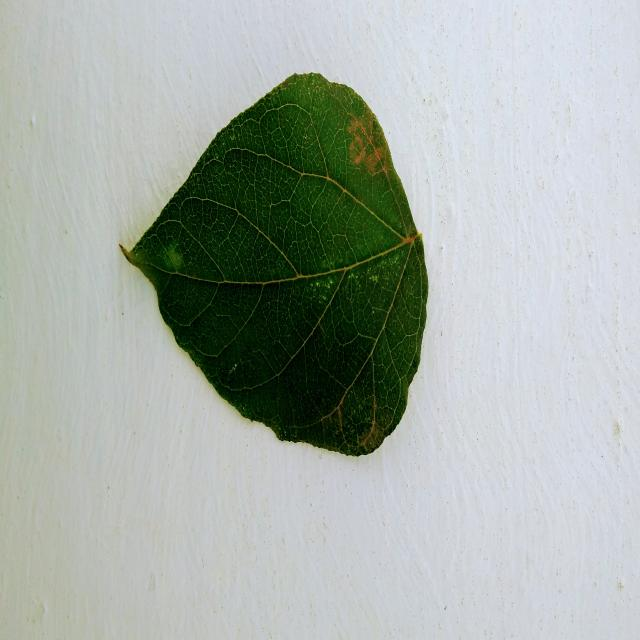Parijatha: (121, 73, 428, 456)
